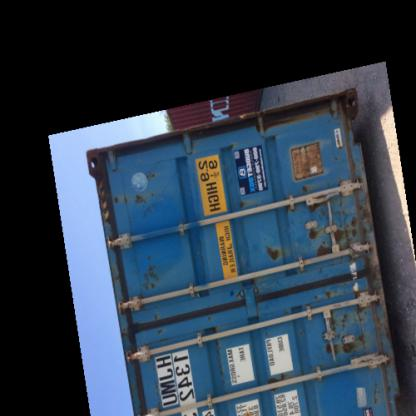Damage: (297, 190, 362, 258), (316, 302, 366, 359), (108, 162, 156, 212), (131, 250, 167, 293), (254, 237, 288, 267), (142, 311, 166, 345)
